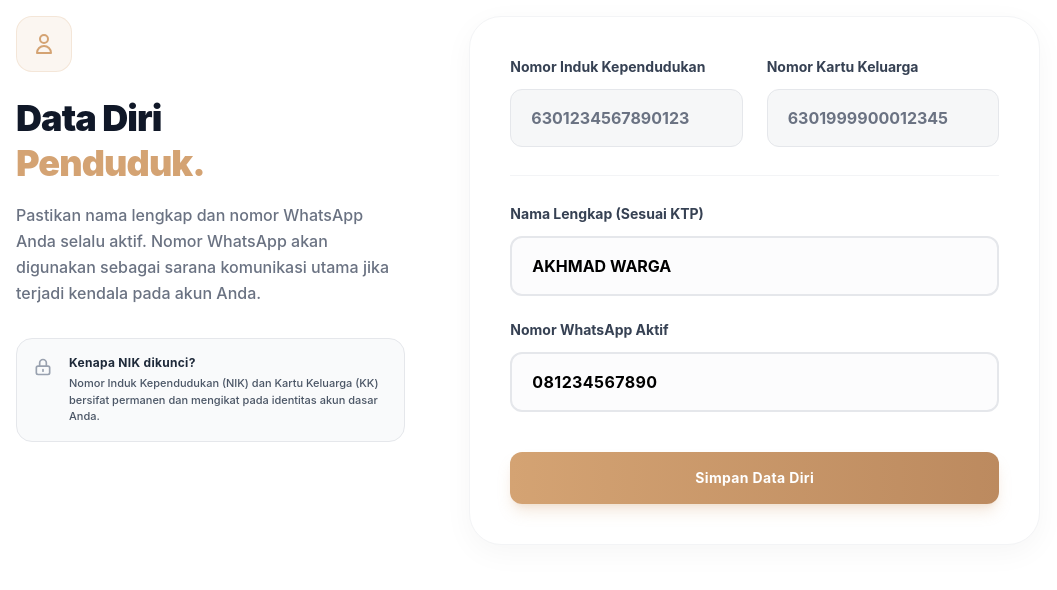
Profile.vue - Professional QA Test Suite › Validasi Form › [VAL-03] Error jika WhatsApp kosong
Clear the field below "Nomor WhatsApp Aktif". click: point(755, 382)
box: left=510, top=352, right=999, bottom=412
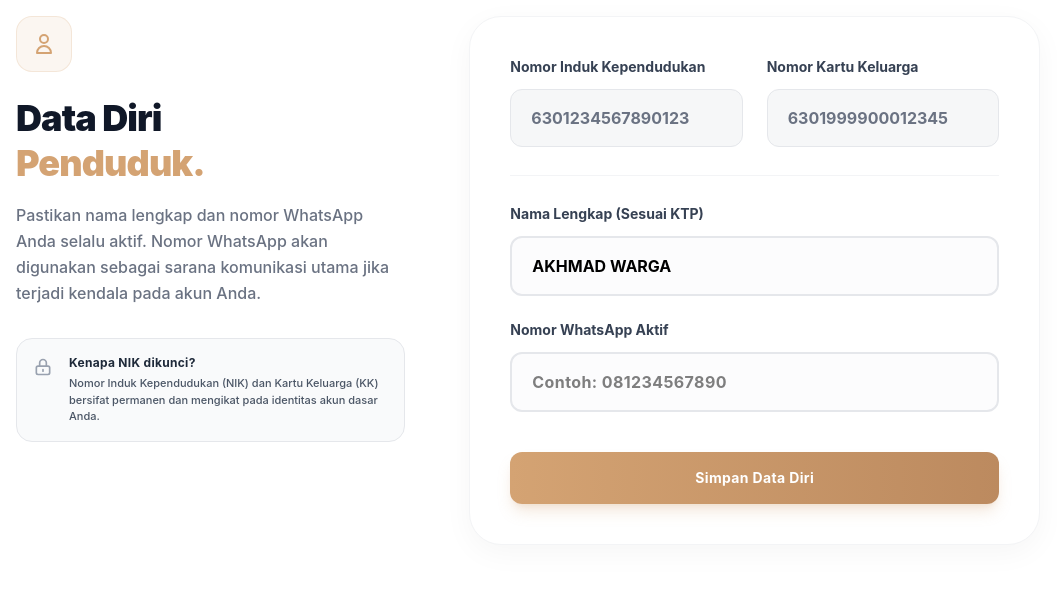
Submit the form, box left=510, top=57, right=999, bottom=504
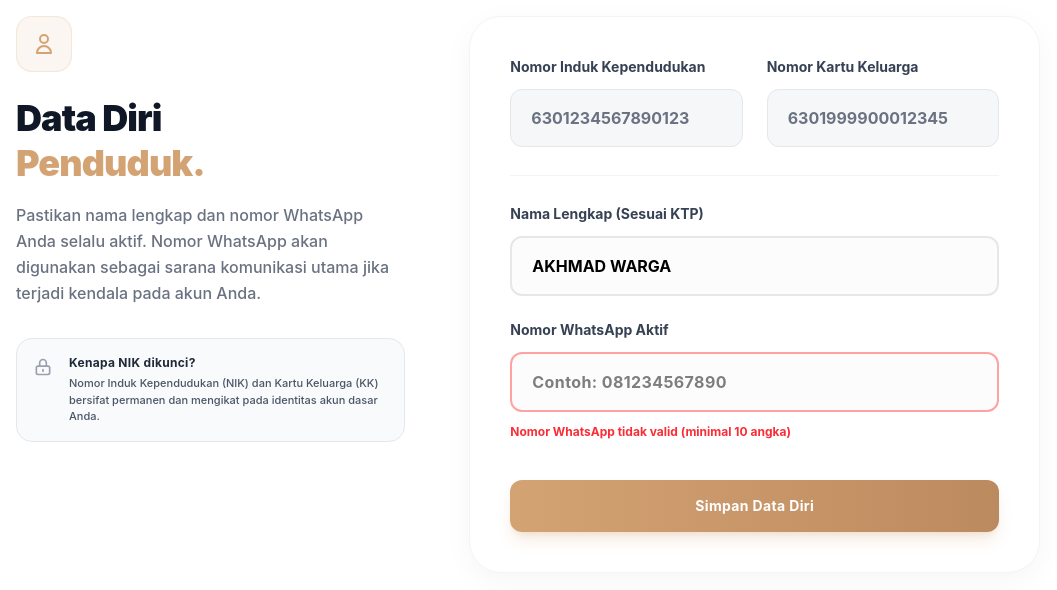
Check: the text "Nomor WhatsApp tidak valid" is shown, box left=510, top=424, right=791, bottom=439
